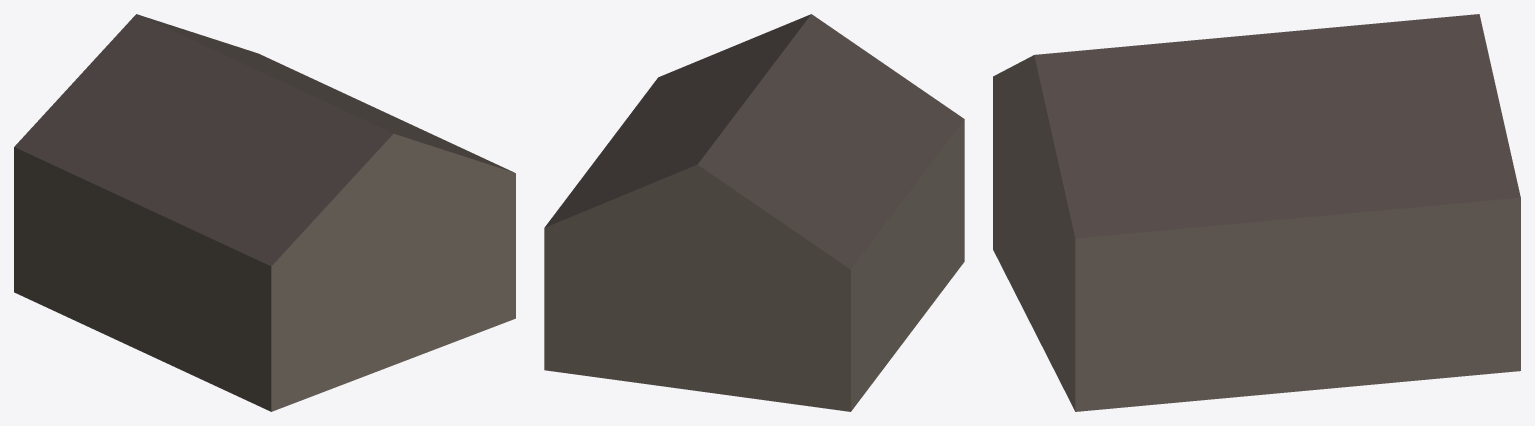
3 renders of one model, left to right at view 1: azimuth 30°, elevation 25°; view 2: azimuth 150°, elevation 25°; view 3: azimuth 270°, elevation 25°, orthographic. The views are drawn at different scales.
Parts seen in each view (by area): view 1: HP-w369317553; view 2: HP-w369317553; view 3: HP-w369317553.
Boxes of the visible parts, x1=… form: HP-w369317553: x1=14, y1=14, x2=515, y2=411; HP-w369317553: x1=544, y1=14, x2=964, y2=411; HP-w369317553: x1=993, y1=14, x2=1520, y2=411.
Bounding box in the file's own units: 15.08 × 9.56 × 16.56.
